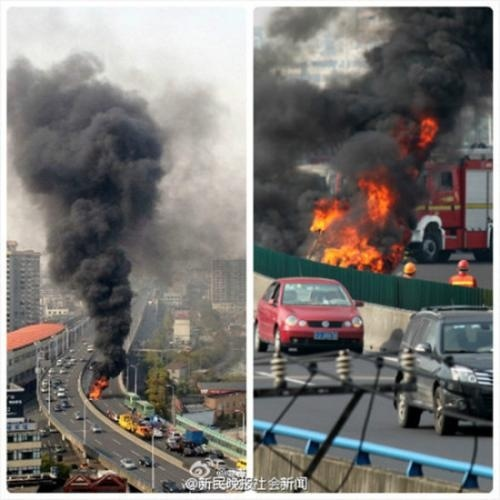fire: (308, 164, 423, 271), (88, 376, 108, 399)
